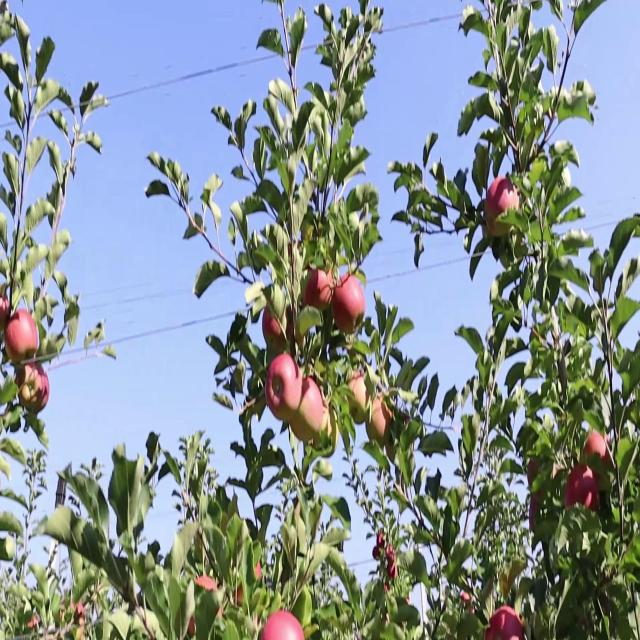apple: (484, 177, 522, 242), (268, 355, 303, 425), (296, 376, 328, 446), (332, 277, 368, 336), (4, 312, 40, 368), (564, 462, 601, 514), (16, 362, 47, 418), (260, 305, 292, 356), (312, 405, 339, 457), (24, 369, 52, 418), (304, 270, 335, 313), (584, 433, 612, 478), (368, 398, 393, 446), (348, 376, 370, 428), (264, 611, 304, 639), (488, 611, 526, 639), (528, 490, 546, 535), (36, 369, 52, 416), (292, 407, 311, 446), (528, 455, 543, 489), (460, 590, 476, 615), (4, 298, 12, 325)
